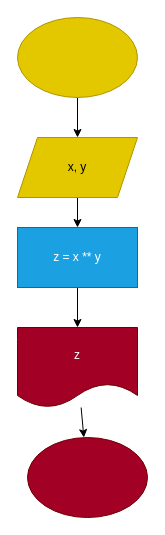
This 165x535 diagram has some shape labels left out. The box of each missing label's shape, as (x1, y1, x2, y2) in pixels:
Fin: (26, 436, 148, 518)
Inicio: (16, 16, 138, 98)
